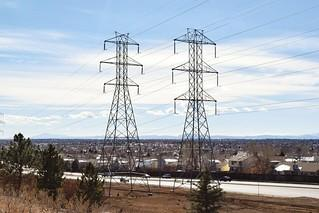power_tower: (95, 30, 156, 196), (172, 27, 219, 191)
